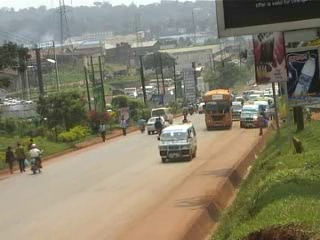Car: (144, 116, 169, 136), (195, 99, 206, 115)
Motorcycle: (27, 149, 45, 175), (134, 119, 147, 135), (154, 119, 163, 136), (187, 103, 195, 115)
